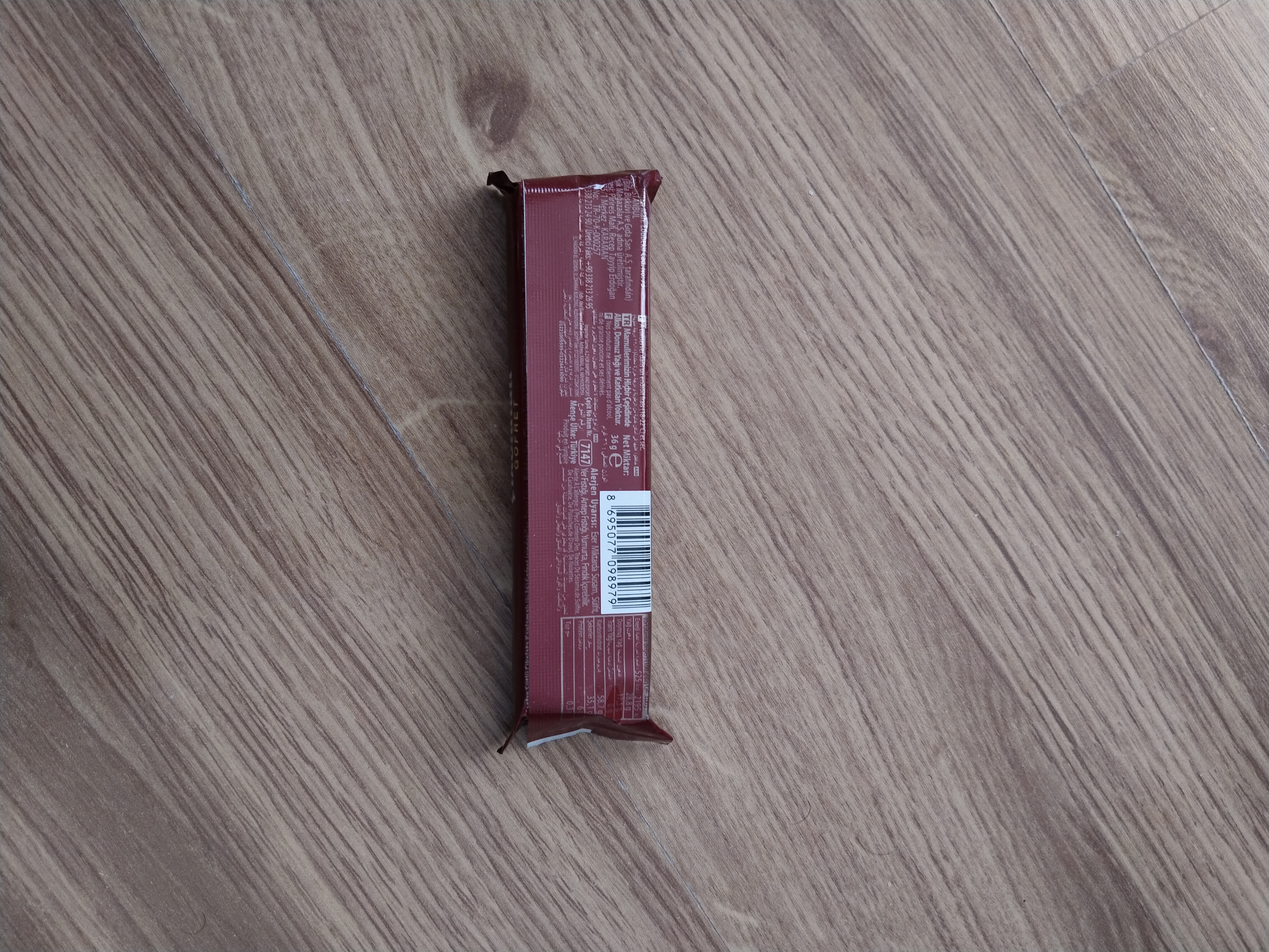centro_gofret: (487, 168, 654, 748)
